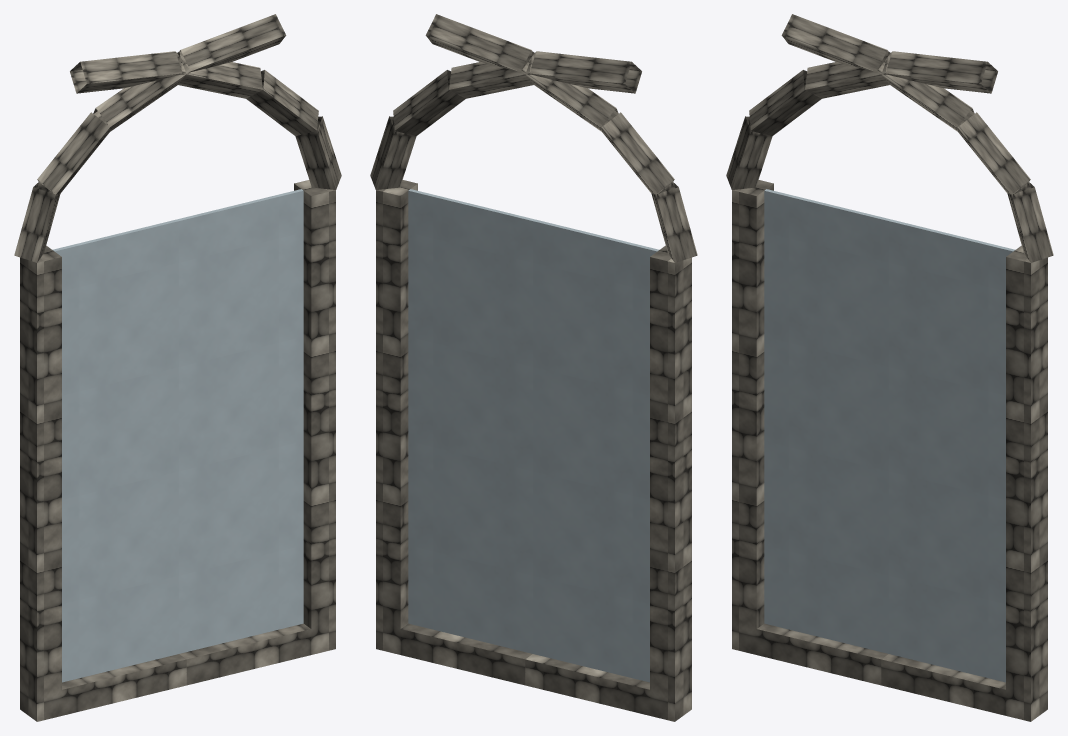
The model's file is Window_Great_1_LOD2.gltf.
The picture shows the model from 3 angles, left to right: view 1: azimuth 30°, elevation 25°; view 2: azimuth 150°, elevation 25°; view 3: azimuth 330°, elevation 25°; orthographic projection.
Parts seen in each view (by area): view 1: Window_Great_1_LOD2; view 2: Window_Great_1_LOD2; view 3: Window_Great_1_LOD2.
Boxes of the visible parts, left/top/right/bottom form: Window_Great_1_LOD2: left=14, top=14, right=341, bottom=721; Window_Great_1_LOD2: left=370, top=14, right=697, bottom=721; Window_Great_1_LOD2: left=726, top=14, right=1053, bottom=721.
Size of the model in its own units: 3.29 by 6.15 by 0.3.
Materials: 2 (2 with a texture image).
